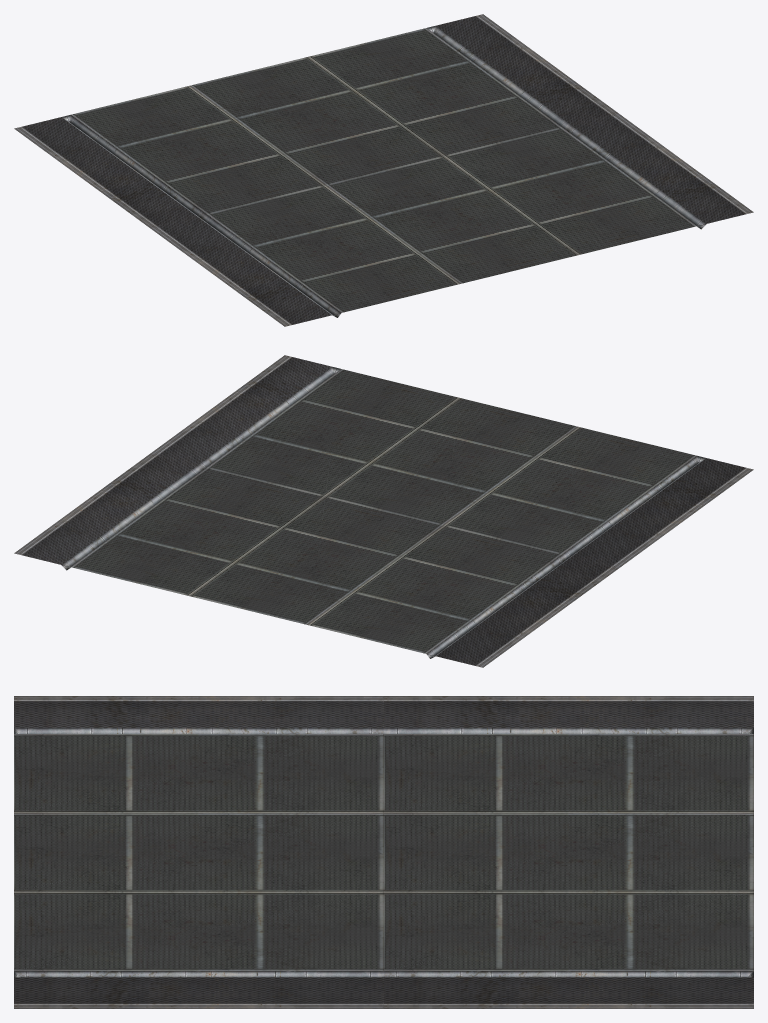
File: FLO_FloorMixed05_5x5.FBX
3 views of the same model, one above another, from view 1: azimuth 30°, elevation 25°; view 2: azimuth 150°, elevation 25°; view 3: azimuth 270°, elevation 25° (orthographic). The views are drawn at different scales.
Parts seen in each view (by area): view 1: FLO_FloorMixed05_5x5; view 2: FLO_FloorMixed05_5x5; view 3: FLO_FloorMixed05_5x5.
Part boxes in pixels (box(x1,y1,x2,y2)): FLO_FloorMixed05_5x5: box(14, 14, 753, 326); FLO_FloorMixed05_5x5: box(14, 355, 753, 667); FLO_FloorMixed05_5x5: box(14, 696, 753, 1008).
Bounding box in the file's own units: 500 × 4.83 × 500.
1 material, 1 textured.
